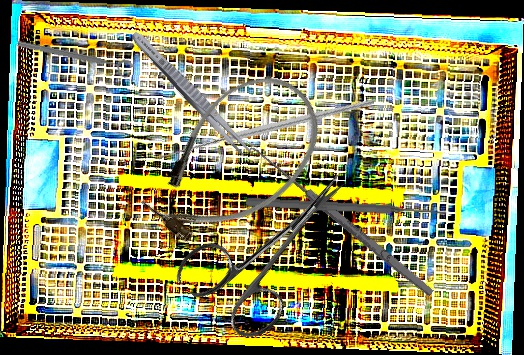Cannula: (121, 51, 346, 270)
Dressing Forceps: (127, 27, 258, 163)
Fixation Ring: (15, 36, 135, 81)
Hook Surgical: (156, 47, 375, 222), (241, 141, 437, 306)
Iris Scissors: (169, 138, 380, 351)
Pusher: (245, 195, 449, 220)
